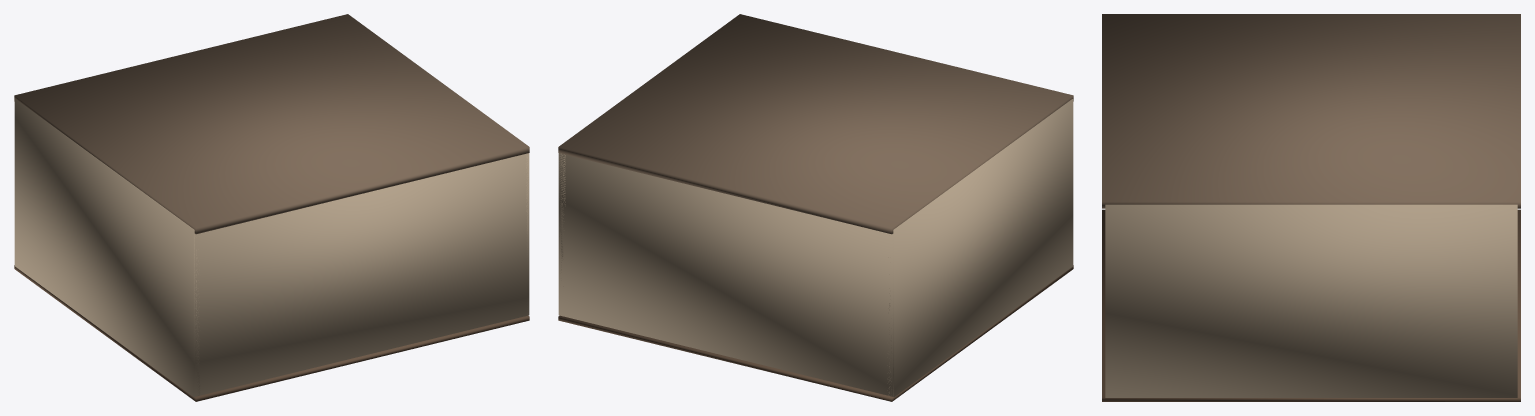
The model's file is muhabbet_interior.glb.
3 views of the same model, side by side, from view 1: azimuth 30°, elevation 25°; view 2: azimuth 150°, elevation 25°; view 3: azimuth 270°, elevation 25° (orthographic). The views are drawn at different scales.
Visible parts, largest first — view 1: Interior_plaster, Interior_ceiling, Interior_floor_wood; view 2: Interior_plaster, Interior_ceiling, Interior_floor_wood; view 3: Interior_plaster, Interior_ceiling, Interior_floor_wood.
Boxes of the visible parts, <box> form: Interior_plaster: <box>14,99,529,396</box>; Interior_ceiling: <box>14,14,529,234</box>; Interior_floor_wood: <box>14,265,529,401</box>; Interior_plaster: <box>558,99,1073,396</box>; Interior_ceiling: <box>558,14,1073,234</box>; Interior_floor_wood: <box>558,265,1073,401</box>; Interior_plaster: <box>1105,204,1517,397</box>; Interior_ceiling: <box>1102,14,1520,208</box>; Interior_floor_wood: <box>1102,209,1520,401</box>.
Bounding box in the file's own units: 7.04 × 3.48 × 6.6.
